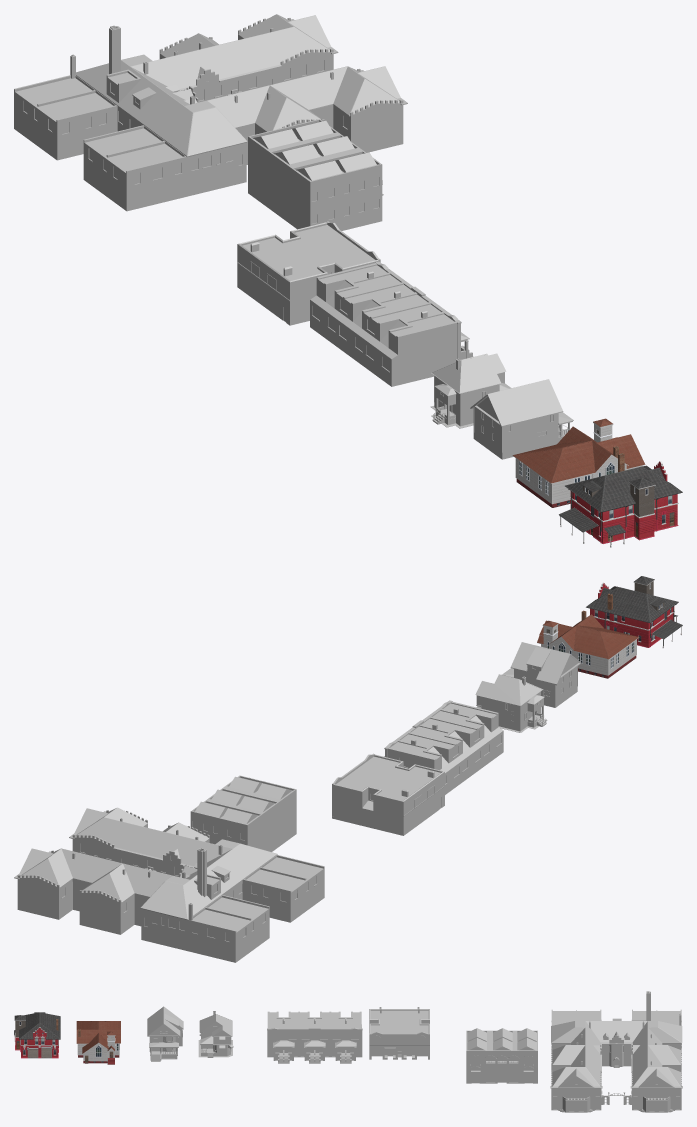
Rendered from new ppp.fbx.
The picture shows the model from 3 angles, top to bottom: view 1: azimuth 30°, elevation 25°; view 2: azimuth 150°, elevation 25°; view 3: azimuth 270°, elevation 25°; orthographic projection. The views are drawn at different scales.
Parts seen in each view (by area): view 1: house_09_object5, house_07_object2, house_10_object27, house_08_object2, house_02_object2, house_01_object2, house_03_object3, house_06_object3; view 2: house_09_object5, house_08_object2, house_07_object2, house_10_object27, house_02_object2, house_01_object2, house_03_object3, house_06_object3; view 3: house_09_object5, house_07_object2, house_10_object27, house_08_object2, house_02_object2, house_01_object2, house_03_object3, house_06_object3.
Boxes of the visible parts, x1,y1,x2,y2 form: house_09_object5: (14, 14, 407, 211); house_07_object2: (310, 261, 473, 386); house_10_object27: (248, 119, 383, 230); house_08_object2: (237, 221, 380, 325); house_02_object2: (559, 453, 682, 547); house_01_object2: (512, 418, 645, 507); house_03_object3: (470, 379, 573, 459); house_06_object3: (430, 353, 511, 428); house_09_object5: (14, 807, 324, 962); house_08_object2: (332, 753, 444, 835); house_07_object2: (384, 700, 503, 794); house_10_object27: (190, 775, 296, 851); house_02_object2: (586, 576, 682, 648); house_01_object2: (537, 610, 639, 678); house_03_object3: (502, 642, 581, 707); house_06_object3: (475, 674, 547, 732); house_09_object5: (550, 991, 682, 1112); house_07_object2: (267, 1011, 362, 1063); house_10_object27: (466, 1028, 537, 1083); house_08_object2: (369, 1007, 429, 1059); house_02_object2: (14, 1012, 60, 1058); house_01_object2: (76, 1021, 120, 1064); house_03_object3: (147, 1006, 183, 1061); house_06_object3: (198, 1011, 233, 1057).
Bounding box in the file's own units: 5829 × 2054 × 20515.
